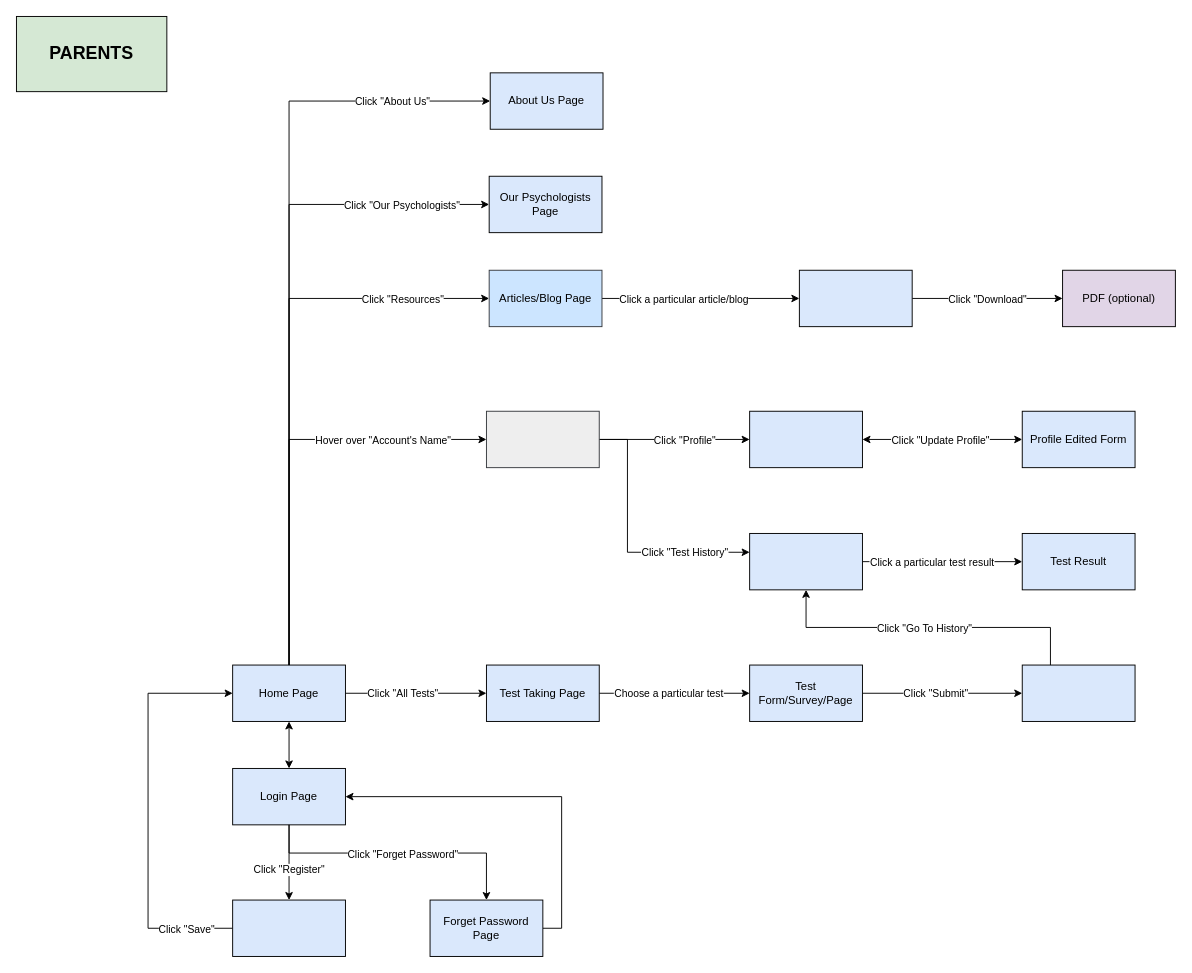
Some shapes in this 1192 by 973 pixel diagram are drawn without their labels. The shapes that lost their labels are listed below. From the top down, each one's centre as x and y in pixels, then its label:
At (x=855, y=298): "A Detailed Article/Blog Page".
At (x=542, y=439): "Account's Name".
At (x=805, y=439): "Profile Page".
At (x=805, y=561): "Test Result History".
At (x=1078, y=692): "Test Result Page".
At (x=288, y=927): "Registration Page".
